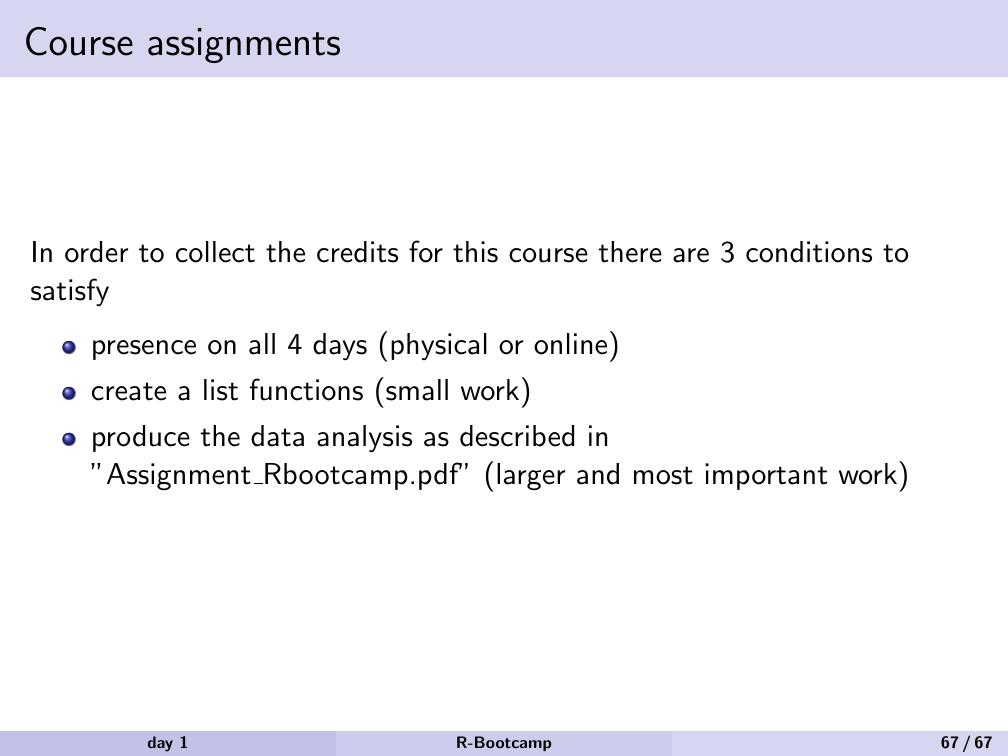Title: (15, 17, 355, 69)
